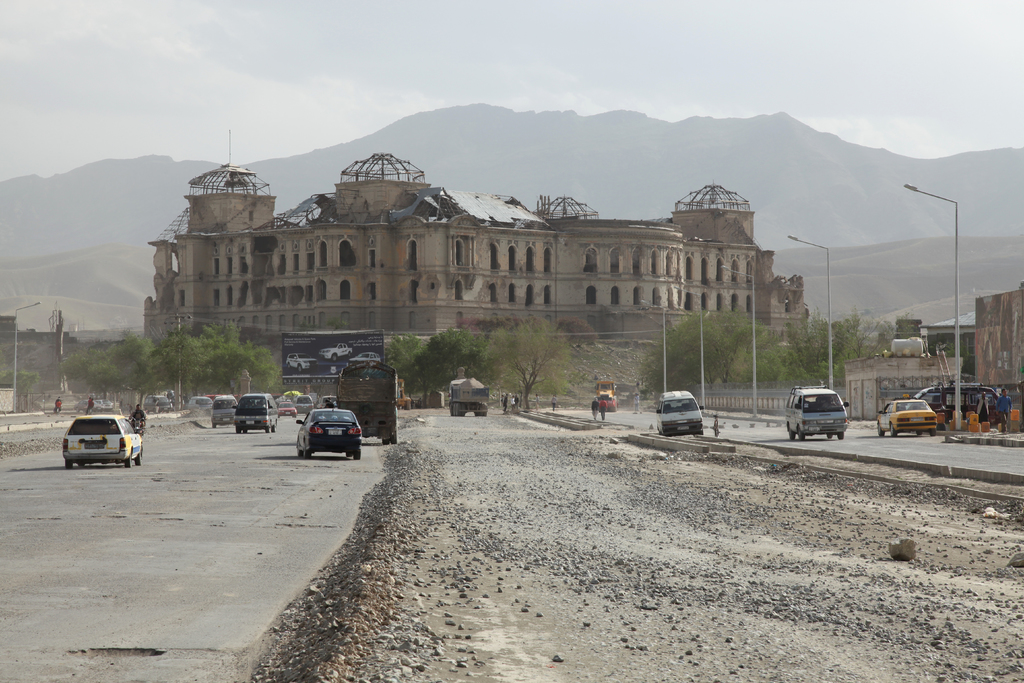mobil: (64, 410, 146, 468), (294, 411, 377, 458), (783, 388, 853, 442)
